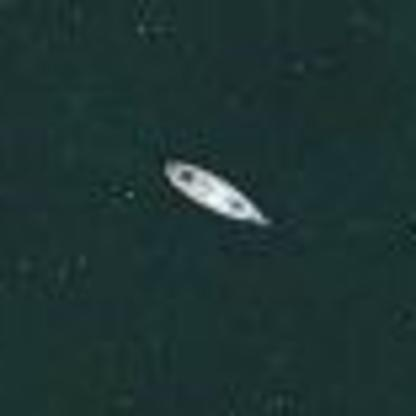ship: (156, 148, 276, 229)
